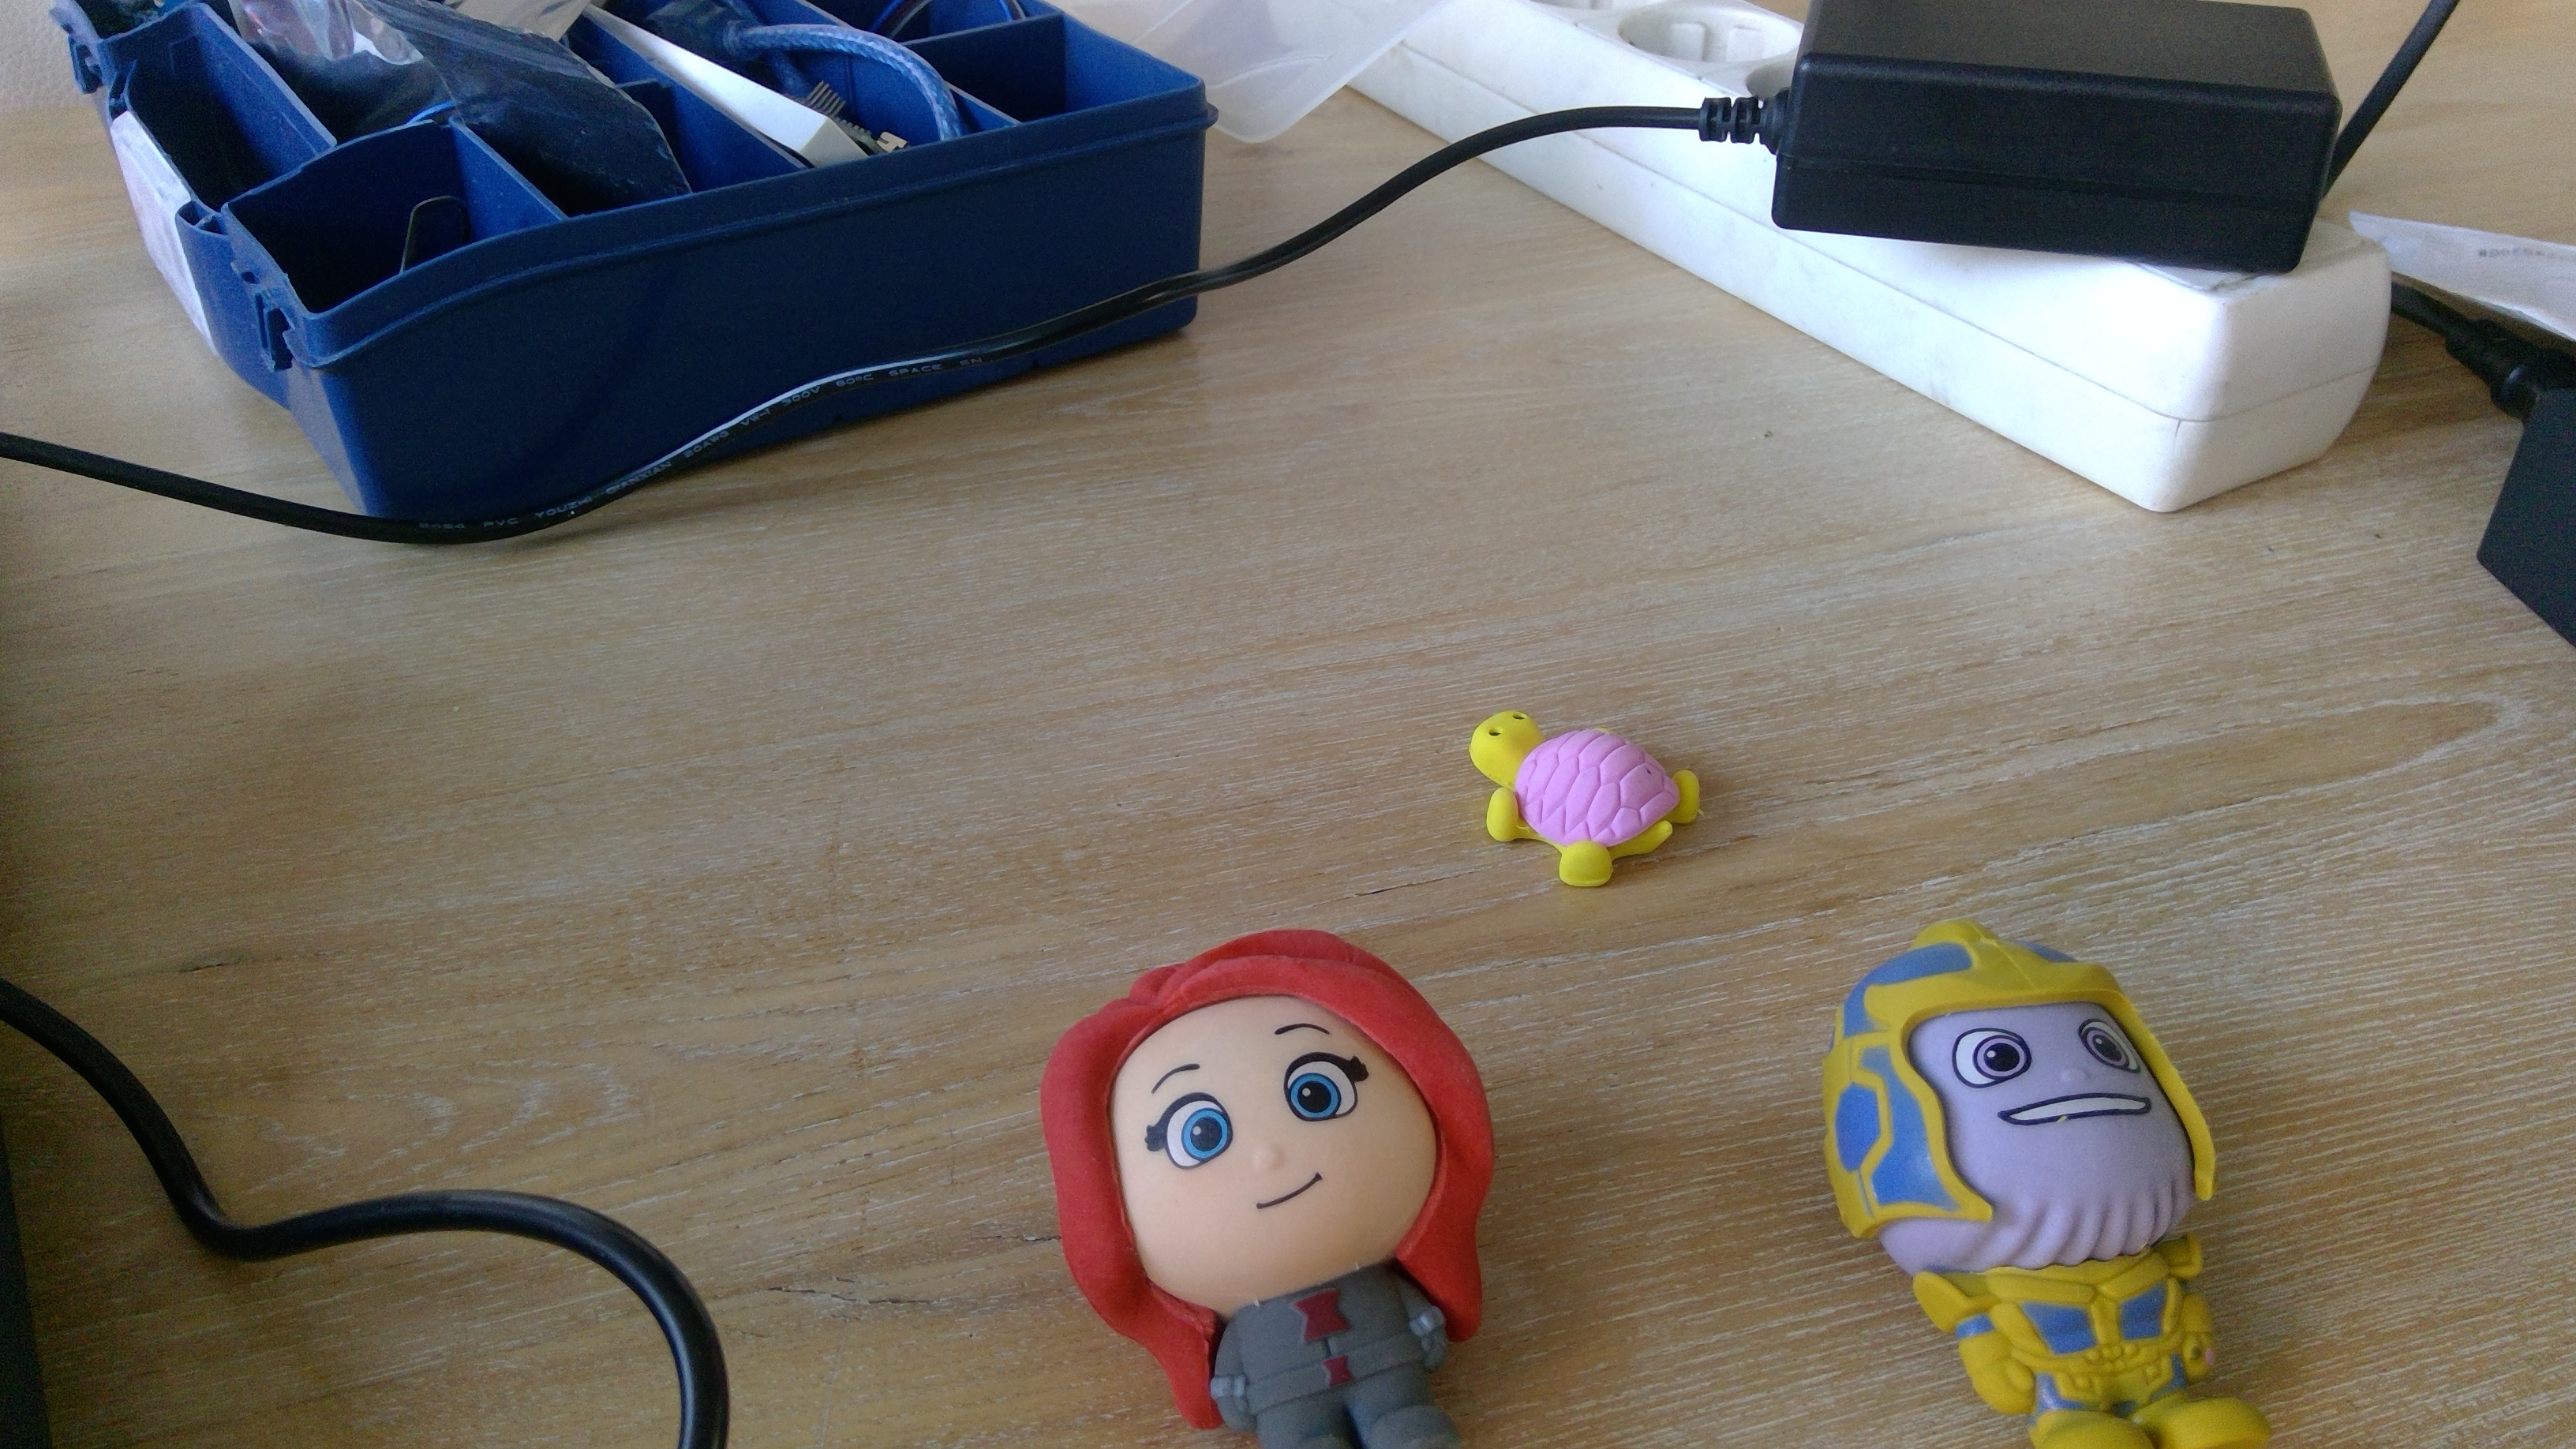schil: (1463, 708, 1709, 890)
spin: (1049, 934, 1502, 1449)
thanos: (1806, 918, 2277, 1449)
